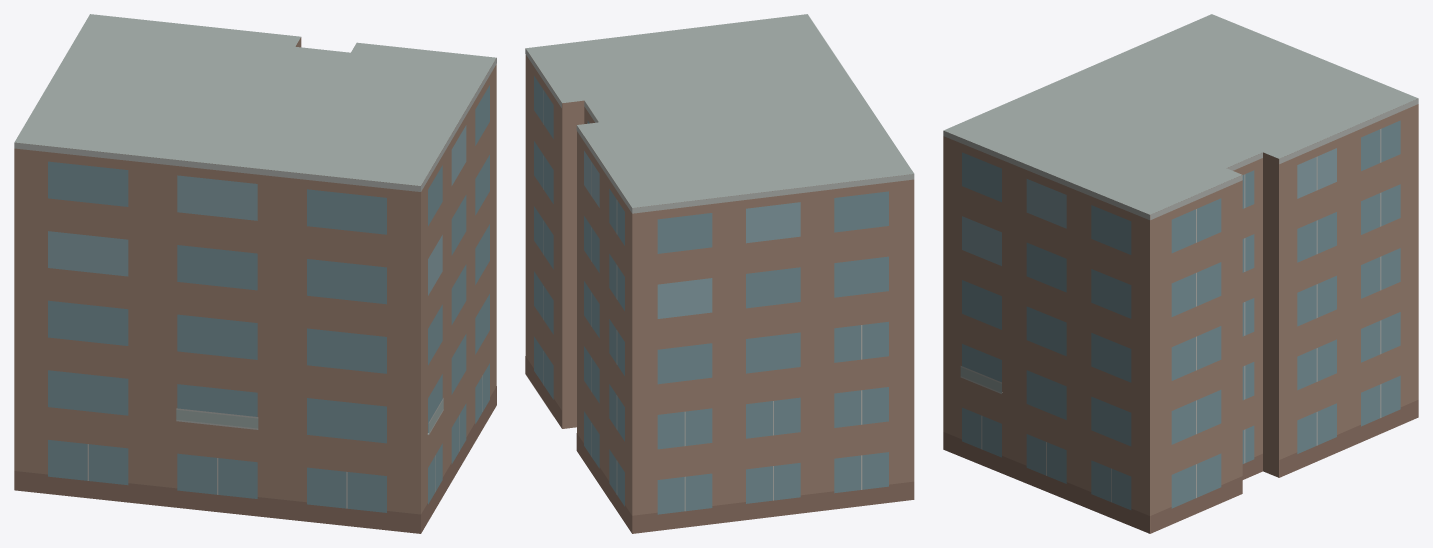
File: survey-upis-32795872.glb
3 renders of one model, left to right at view 1: azimuth 30°, elevation 25°; view 2: azimuth 150°, elevation 25°; view 3: azimuth 270°, elevation 25°, orthographic. The views are drawn at different scales.
Parts seen in each view (by area): view 1: survey-upis-32795872.tmp; view 2: survey-upis-32795872.tmp; view 3: survey-upis-32795872.tmp.
Boxes of the visible parts, x1,y1,x2,y2 form: survey-upis-32795872.tmp: [14, 14, 496, 533]; survey-upis-32795872.tmp: [525, 14, 914, 533]; survey-upis-32795872.tmp: [943, 14, 1418, 533].
Size of the model in its own units: 19.05 by 14.1 by 19.04.
